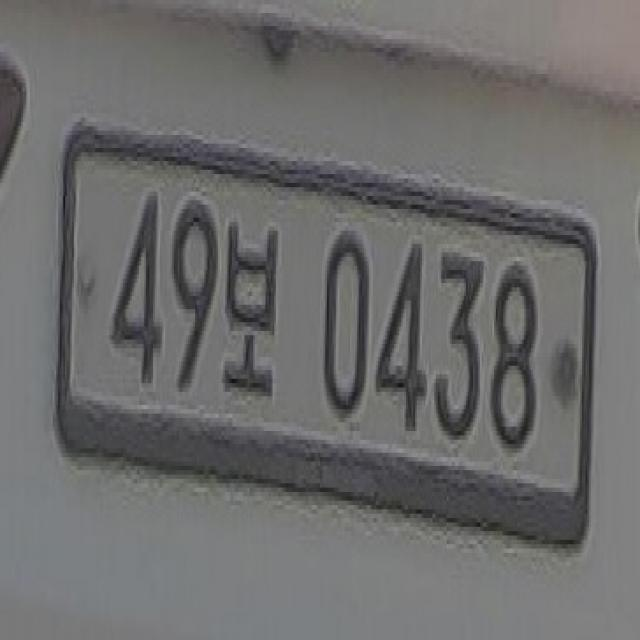0: (321, 214, 372, 426)
3: (434, 245, 484, 443)
4: (105, 182, 167, 402), (374, 221, 432, 442)
8: (493, 252, 539, 454)
9: (171, 191, 219, 407)
bo: (225, 211, 280, 418)
license_plate: (43, 97, 611, 589)
